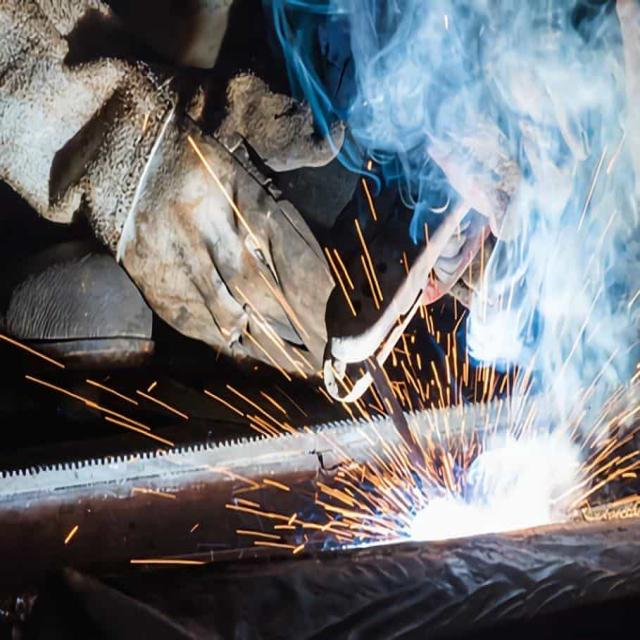welding: (406, 491, 560, 534)
